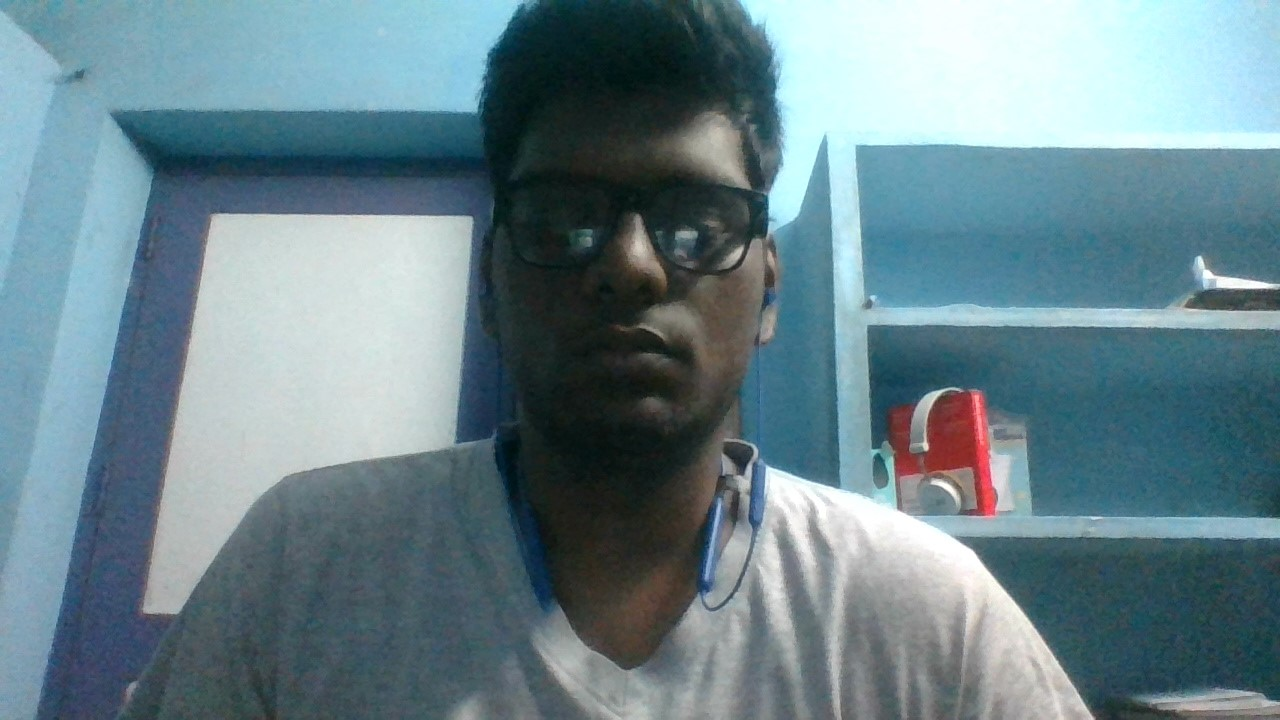person: (132, 1, 1086, 720)
